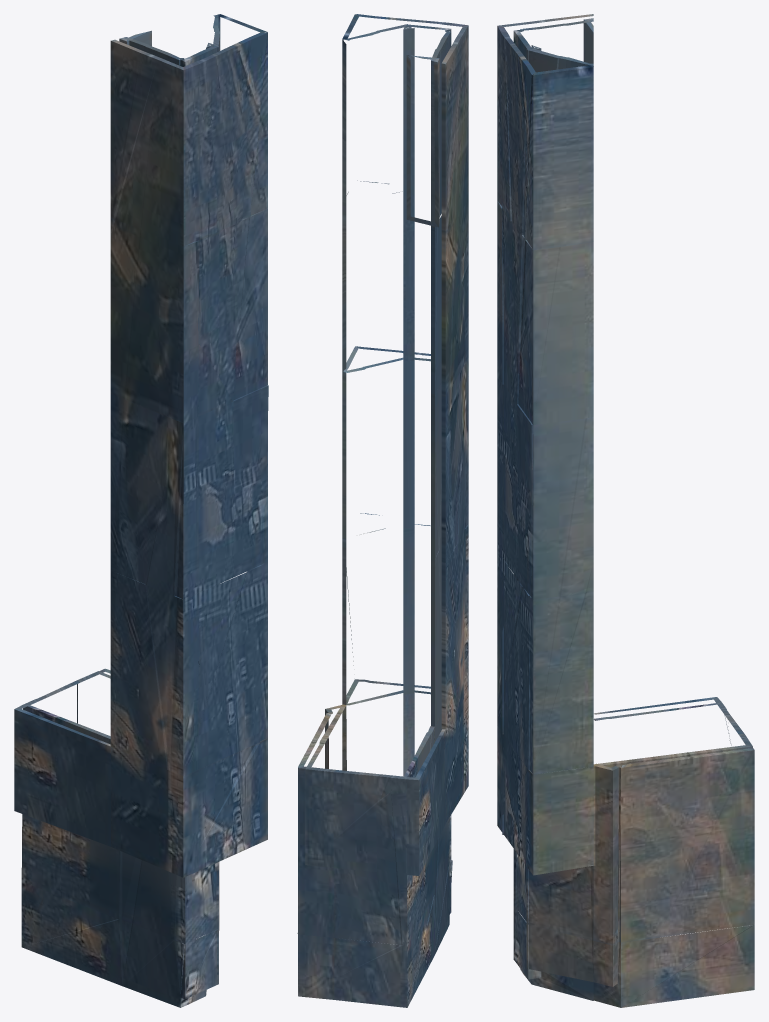
Rendered from chunk_9_-1.glb.
3 views of the same model, side by side, from view 1: azimuth 30°, elevation 25°; view 2: azimuth 150°, elevation 25°; view 3: azimuth 270°, elevation 25° (orthographic). The views are drawn at different scales.
Visible parts, largest first — view 1: hero-chunk; view 2: hero-chunk; view 3: hero-chunk.
Part boxes in pixels (x1=…): hero-chunk: x1=14, y1=14, x2=268, y2=1007; hero-chunk: x1=297, y1=14, x2=468, y2=1007; hero-chunk: x1=497, y1=14, x2=754, y2=1007.
Size of the model in its own units: 34.8 by 196 by 48.59.
Materials: 4 (4 with a texture image).
